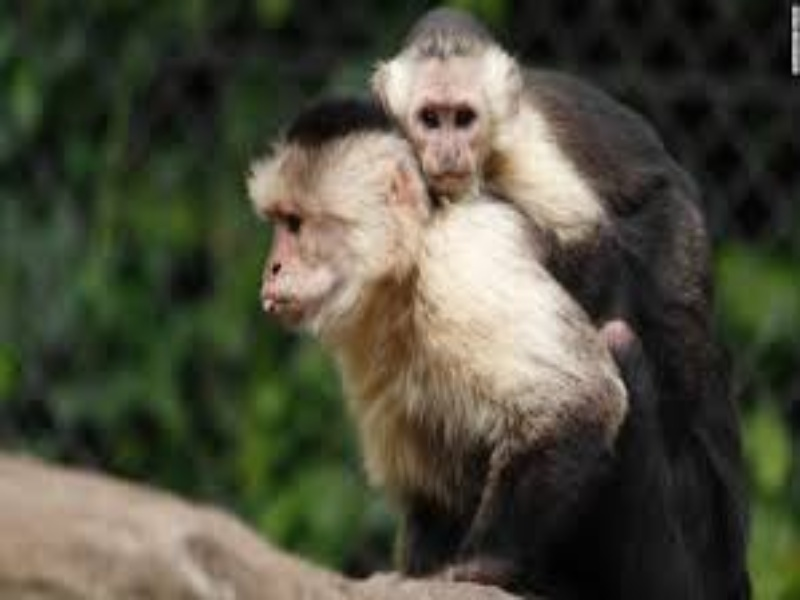monkey: (196, 101, 648, 570), (361, 18, 712, 278)
